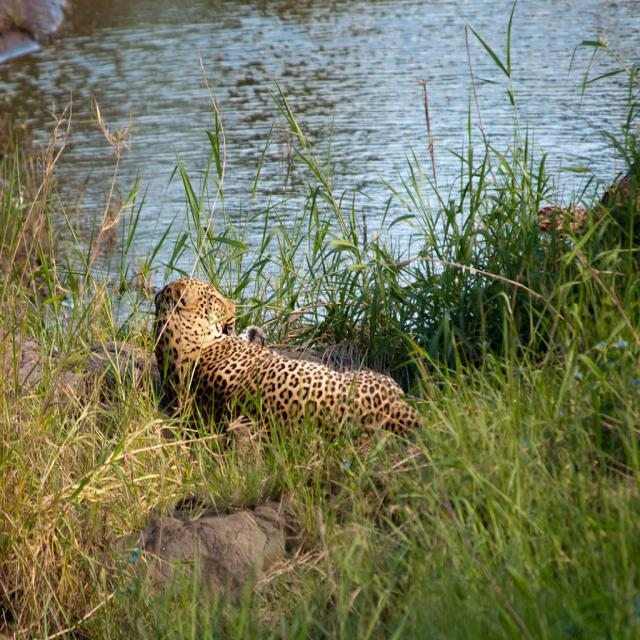Cheetah: (134, 259, 438, 452)
